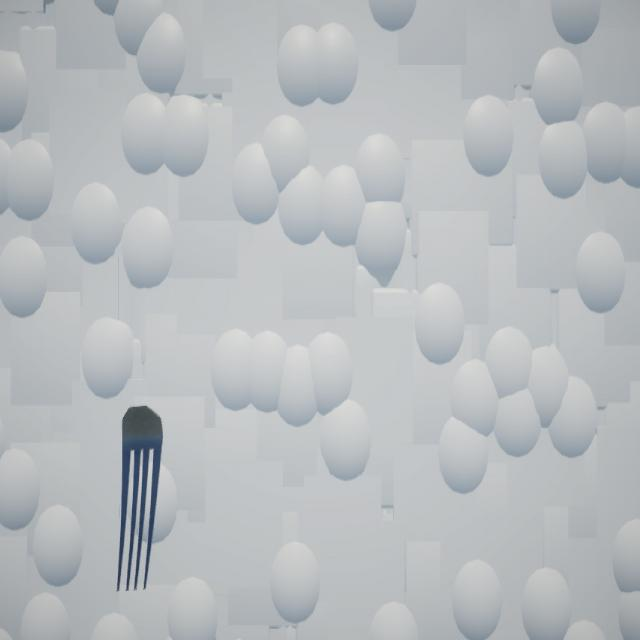top_folk: (118, 406, 164, 592)
